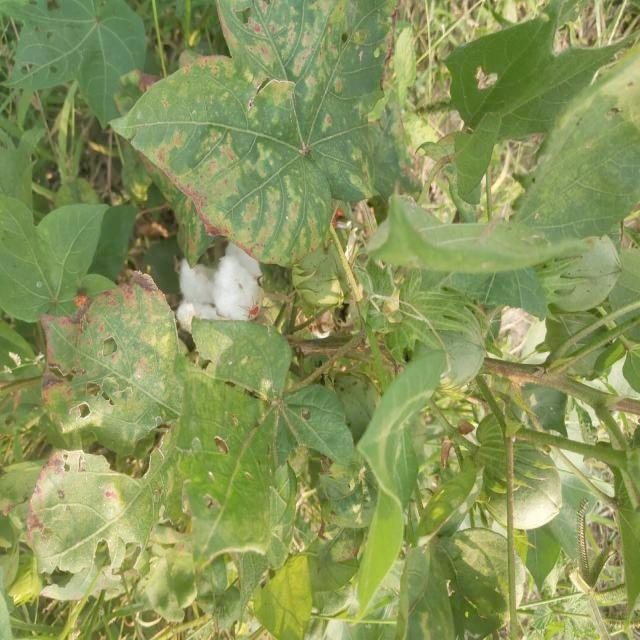Early Boll: (483, 445, 569, 533), (409, 311, 490, 391), (546, 232, 624, 314)
Matured Cotton Boll: (178, 248, 258, 333)
